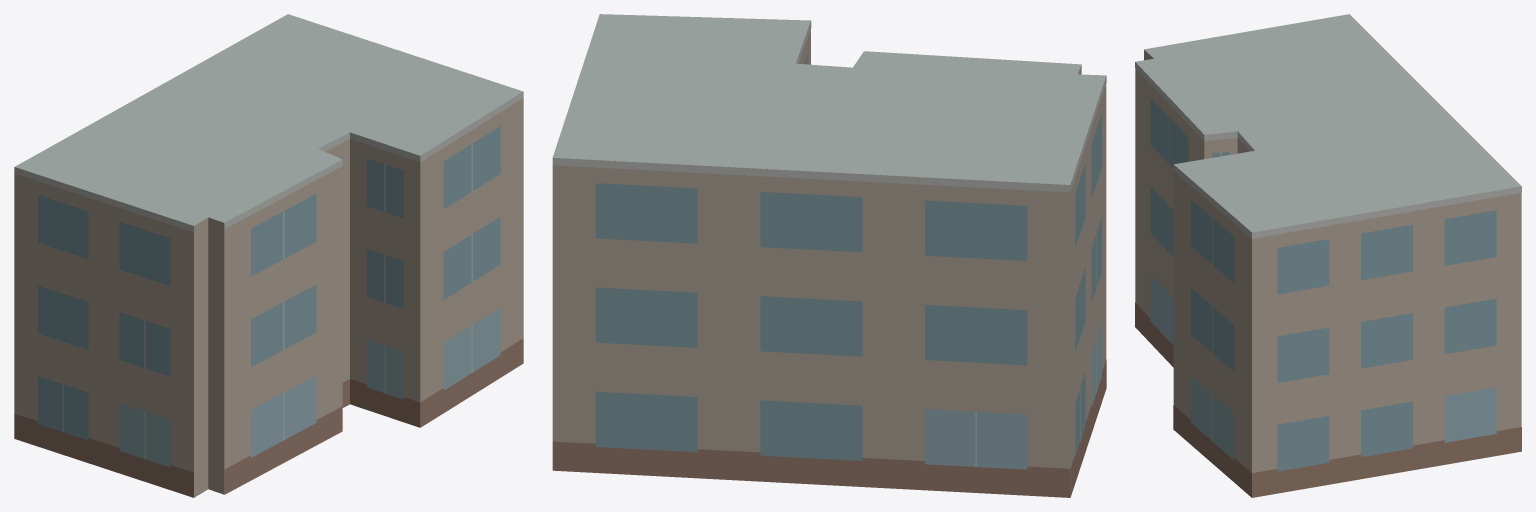
Rendered from survey-upis-32849670.glb.
3 renders of one model, left to right at view 1: azimuth 30°, elevation 25°; view 2: azimuth 150°, elevation 25°; view 3: azimuth 270°, elevation 25°, orthographic. The views are drawn at different scales.
Visible parts, largest first — view 1: survey-upis-32849670.tmp; view 2: survey-upis-32849670.tmp; view 3: survey-upis-32849670.tmp.
Part boxes in pixels (left/top/right/bottom): survey-upis-32849670.tmp: left=14, top=14, right=523, bottom=497; survey-upis-32849670.tmp: left=552, top=14, right=1106, bottom=497; survey-upis-32849670.tmp: left=1135, top=14, right=1521, bottom=497.
Bounding box in the file's own units: 18.04 × 10.2 × 13.48.
